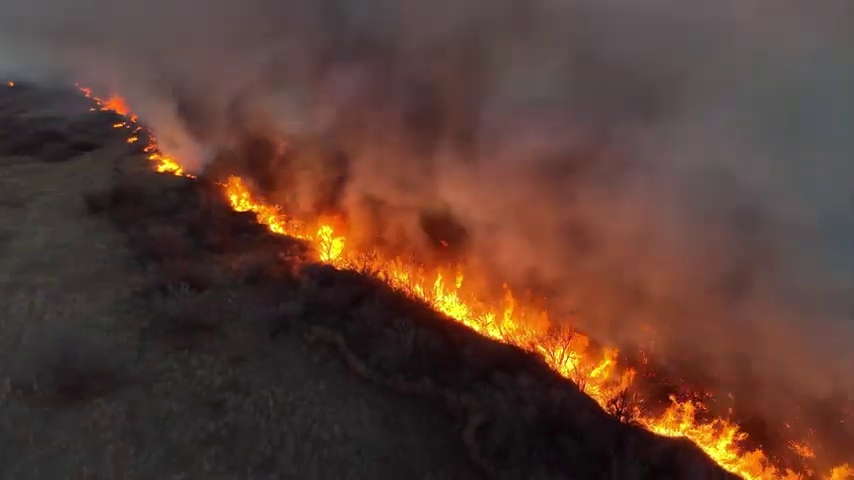forest_fire: (220, 176, 635, 408), (628, 395, 805, 479), (79, 87, 191, 176), (820, 464, 853, 479), (790, 440, 814, 458)
